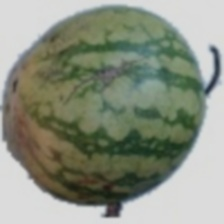watermelon: (26, 27, 224, 215)
